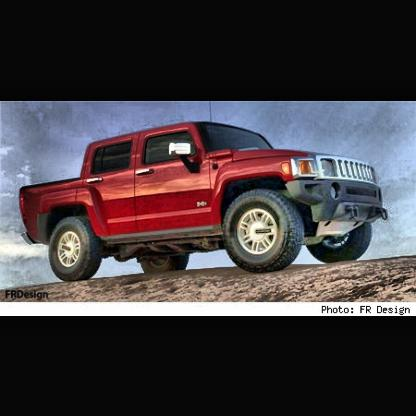HUMMER H2 SUT Crew Cab 2009: (22, 122, 391, 285)
